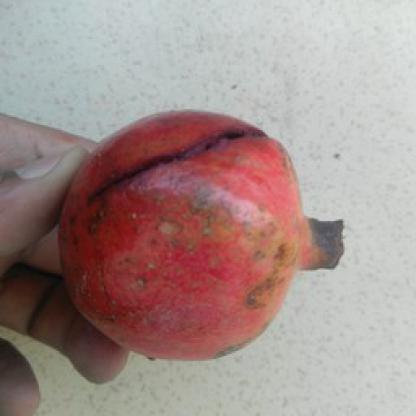pomegranate_rotten: (53, 106, 348, 361)
